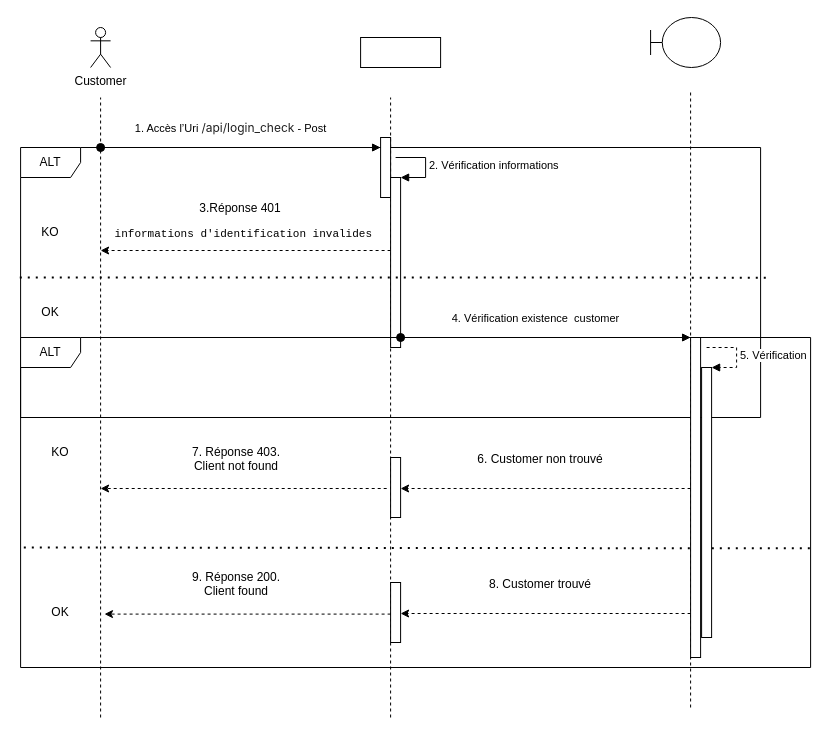
This 829x736 diagram has some shape labels left out. The shapes that lost their labels are listed below. From the top down, each one's centre as x and y in pixels, then its label:
(400,52): API
(685,42): Data base
